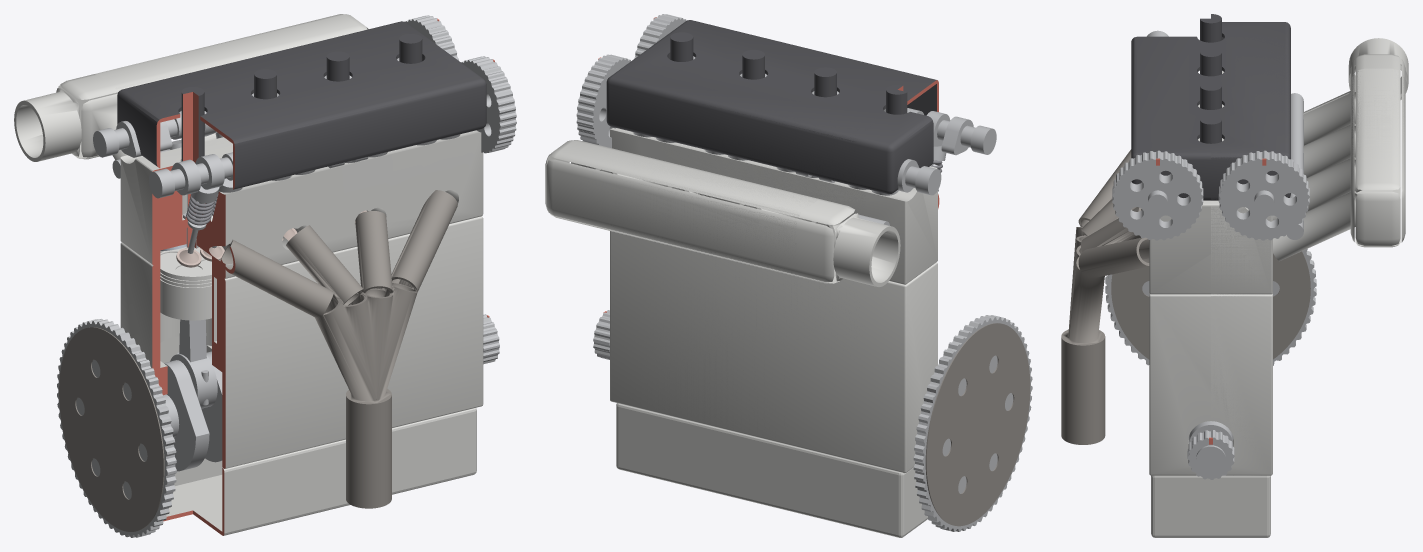
The model's file is motor.glb.
The picture shows the model from 3 angles, left to right: view 1: azimuth 30°, elevation 25°; view 2: azimuth 150°, elevation 25°; view 3: azimuth 270°, elevation 25°; orthographic projection. The views are drawn at different scales.
Parts seen in each view (by area): view 1: bloco_T, coletor_esc_T, tampa_T, cabecote_T, volante, carter_T, coletor_adm_L, tampa_L, cabecote_L, comando_esc, bloco_L, virabrequim (+9 smaller); view 2: bloco_L, coletor_adm_L, tampa_L, volante, carter_T, carter_L, tampa_T, cabecote_L, coletor_adm_T, bloco_T, comando_adm, comando_esc (+4 smaller); view 3: coletor_adm_L, bloco_T, tampa_T, coletor_esc_T, tampa_L, bloco_L, cabecote_T, volante, comando_esc, comando_adm, carter_T, coletor_adm_T (+6 smaller).
Boxes of the visible parts, left/top/right/bottom form: bloco_T: left=207, top=216, right=483, bottom=468; coletor_esc_T: left=220, top=190, right=457, bottom=508; tampa_T: left=155, top=22, right=486, bottom=189; cabecote_T: left=177, top=130, right=483, bottom=278; volante: left=57, top=319, right=176, bottom=537; carter_T: left=175, top=408, right=476, bottom=535; coletor_adm_L: left=14, top=14, right=368, bottom=161; tampa_L: left=117, top=21, right=443, bottom=168; cabecote_L: left=120, top=134, right=298, bottom=265; comando_esc: left=149, top=56, right=516, bottom=198; bloco_L: left=120, top=210, right=368, bottom=395; virabrequim: left=163, top=314, right=499, bottom=471; bloco_L: left=610, top=231, right=937, bottom=473; coletor_adm_L: left=545, top=140, right=900, bottom=286; tampa_L: left=606, top=48, right=933, bottom=194; volante: left=913, top=315, right=1032, bottom=531; carter_T: left=618, top=404, right=866, bottom=528; carter_L: left=616, top=403, right=927, bottom=537; tampa_T: left=609, top=20, right=938, bottom=186; cabecote_L: left=610, top=128, right=937, bottom=284; coletor_adm_T: left=552, top=140, right=819, bottom=275; bloco_T: left=611, top=231, right=859, bottom=443; comando_adm: left=576, top=54, right=941, bottom=195; comando_esc: left=634, top=14, right=996, bottom=155; coletor_adm_L: left=1273, top=38, right=1408, bottom=261; bloco_T: left=1149, top=293, right=1270, bottom=475; tampa_T: left=1131, top=36, right=1290, bottom=200; coletor_esc_T: left=1061, top=149, right=1149, bottom=444; tampa_L: left=1211, top=22, right=1290, bottom=200; bloco_L: left=1211, top=293, right=1272, bottom=475; cabecote_T: left=1149, top=104, right=1270, bottom=294; volante: left=1105, top=249, right=1316, bottom=365; comando_esc: left=1112, top=30, right=1203, bottom=240; comando_adm: left=1218, top=150, right=1309, bottom=240; carter_T: left=1151, top=475, right=1266, bottom=537; coletor_adm_T: left=1303, top=68, right=1405, bottom=246.
Bounding box in the file's own units: 418 × 445 × 348.
